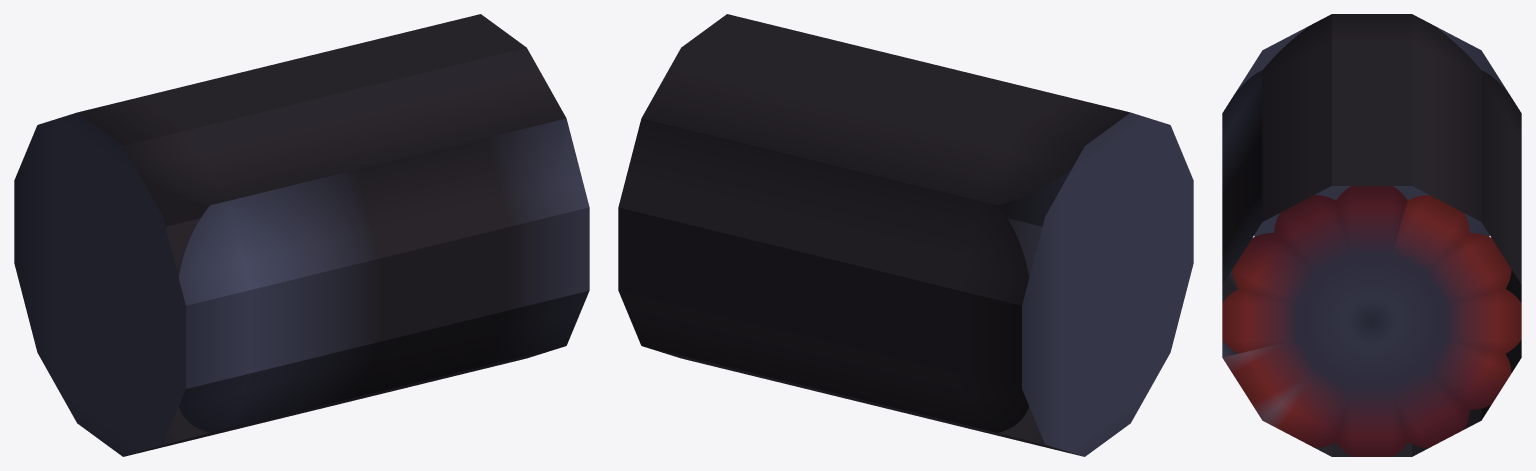
File: pk209_motorwheel.obj
3 renders of one model, left to right at view 1: azimuth 30°, elevation 25°; view 2: azimuth 150°, elevation 25°; view 3: azimuth 270°, elevation 25°, orthographic. The views are drawn at different scales.
Visible parts, largest first — view 1: 轴发轮1; view 2: 轴发轮1; view 3: 轴发轮1.
Boxes of the visible parts, x1,y1,x2,y2 form: 轴发轮1: (14,14,589,456); 轴发轮1: (618,14,1193,456); 轴发轮1: (1222,14,1521,456).
Size of the model in its own units: 0.1948 by 0.1433 by 0.1433.
